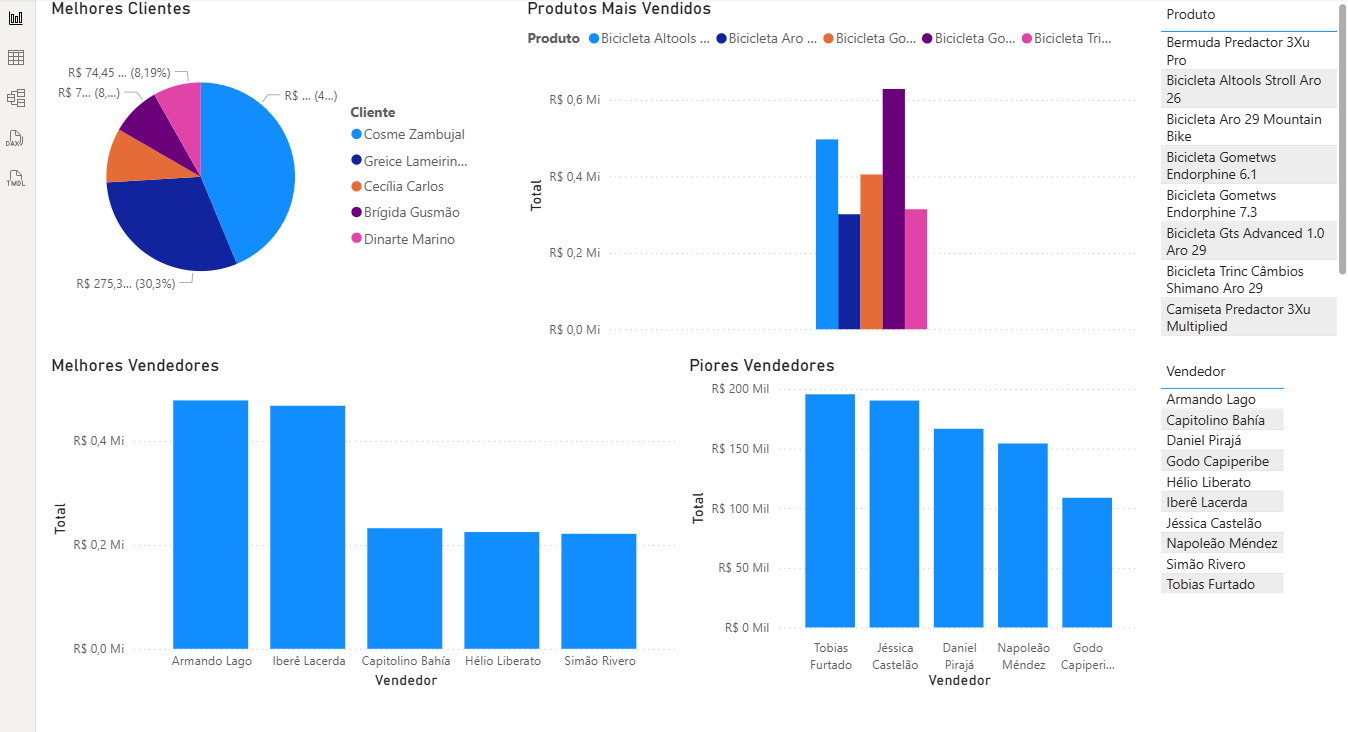

The dashboard page shown, as its layout file describes it:
{"tool":"powerbi","page":{"name":"Melhores","canvas":[1280,720],"ordinal":1},"visuals":[{"type":"pieChart","title":"Melhores Clientes","fields":{"Y":["Sum(Vendas.Total)"],"Category":["Vendas.Cliente"]},"box":[9.7,0,426,328.8],"z":0},{"type":"clusteredColumnChart","title":"Produtos Mais Vendidos","fields":{"Y":["Sum(Vendas.Total)"],"Series":["Vendas.Produto"]},"box":[472.7,0,605,336.5],"z":1000},{"type":"clusteredColumnChart","title":"Melhores Vendedores","fields":{"Category":["Vendas.Vendedor"],"Y":["Sum(Vendas.Total)"]},"box":[9.7,347.2,619.6,328.8],"z":2000},{"type":"clusteredColumnChart","title":"Piores Vendedores","fields":{"Category":["Vendas.Vendedor"],"Y":["Sum(Vendas.Total)"]},"box":[630,347,448,329],"z":3000},{"type":"tableEx","fields":{"Values":["Vendas.Produto"]},"box":[1088,0,192,337],"z":4000},{"type":"tableEx","fields":{"Values":["Vendas.Vendedor"]},"box":[1088,347,192,329],"z":5000}]}

Visuals, with their boxes on the page's 1280x720 design canvas (x1, y1, x2, y2). These are canvas units, not pixel positions in the 1348x732 screenshot, which may show the page scaled, cropped or inside an application window:
"Melhores Clientes" pieChart: Rect(10, 0, 436, 329)
"Produtos Mais Vendidos" clusteredColumnChart: Rect(473, 0, 1078, 336)
"Melhores Vendedores" clusteredColumnChart: Rect(10, 347, 629, 676)
"Piores Vendedores" clusteredColumnChart: Rect(630, 347, 1078, 676)
tableEx - Vendas.Produto: Rect(1088, 0, 1280, 337)
tableEx - Vendas.Vendedor: Rect(1088, 347, 1280, 676)
